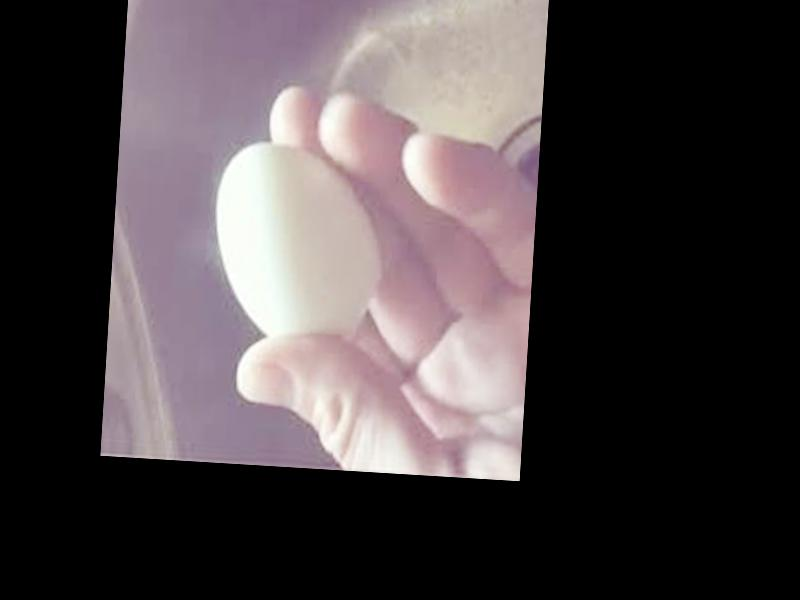Eggs: (208, 139, 385, 344)
